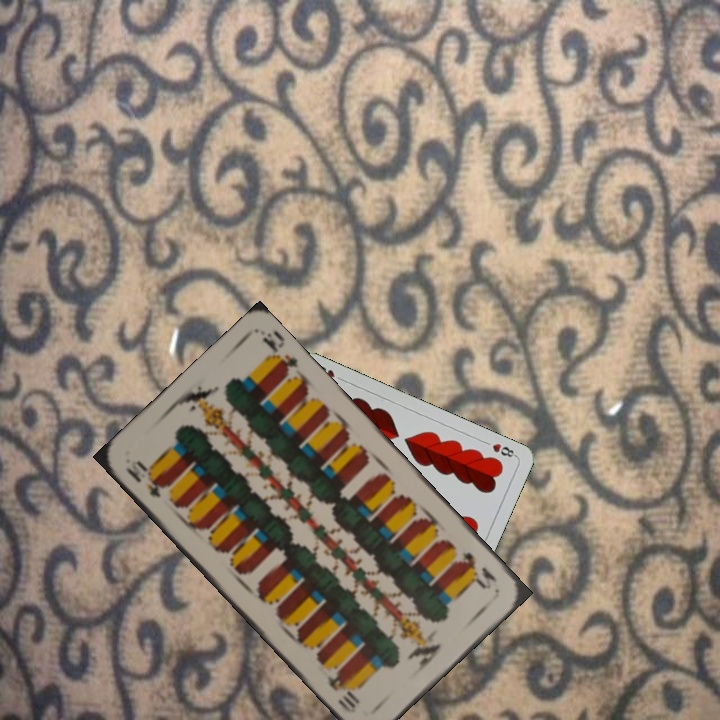E10: (121, 456, 168, 500), (456, 547, 500, 592)
H8: (488, 439, 519, 460)
